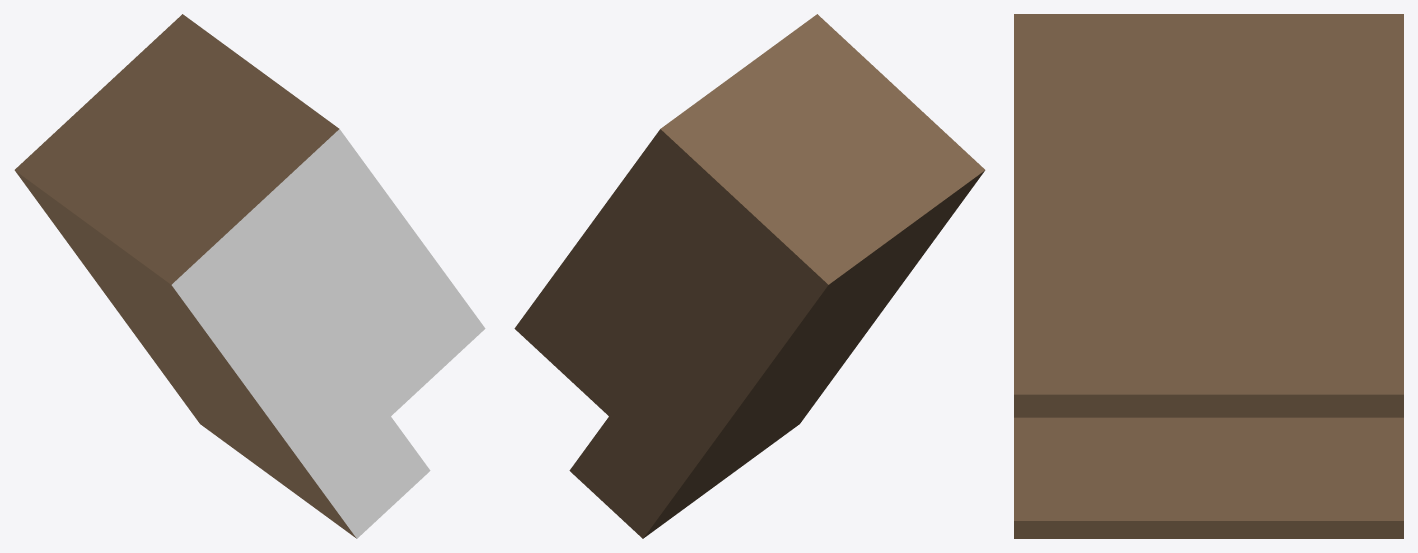
3 renders of one model, left to right at view 1: azimuth 30°, elevation 25°; view 2: azimuth 150°, elevation 25°; view 3: azimuth 270°, elevation 25°, orthographic. The views are drawn at different scales.
Visible parts, largest first — view 1: City_2316749; view 2: City_2316749; view 3: City_2316749.
Part boxes in pixels (x1,y1,x2,y2): City_2316749: [14, 14, 485, 538]; City_2316749: [514, 14, 985, 538]; City_2316749: [1014, 14, 1403, 538].
Bounding box in the file's own units: 1190 × 1499 × 1029.
